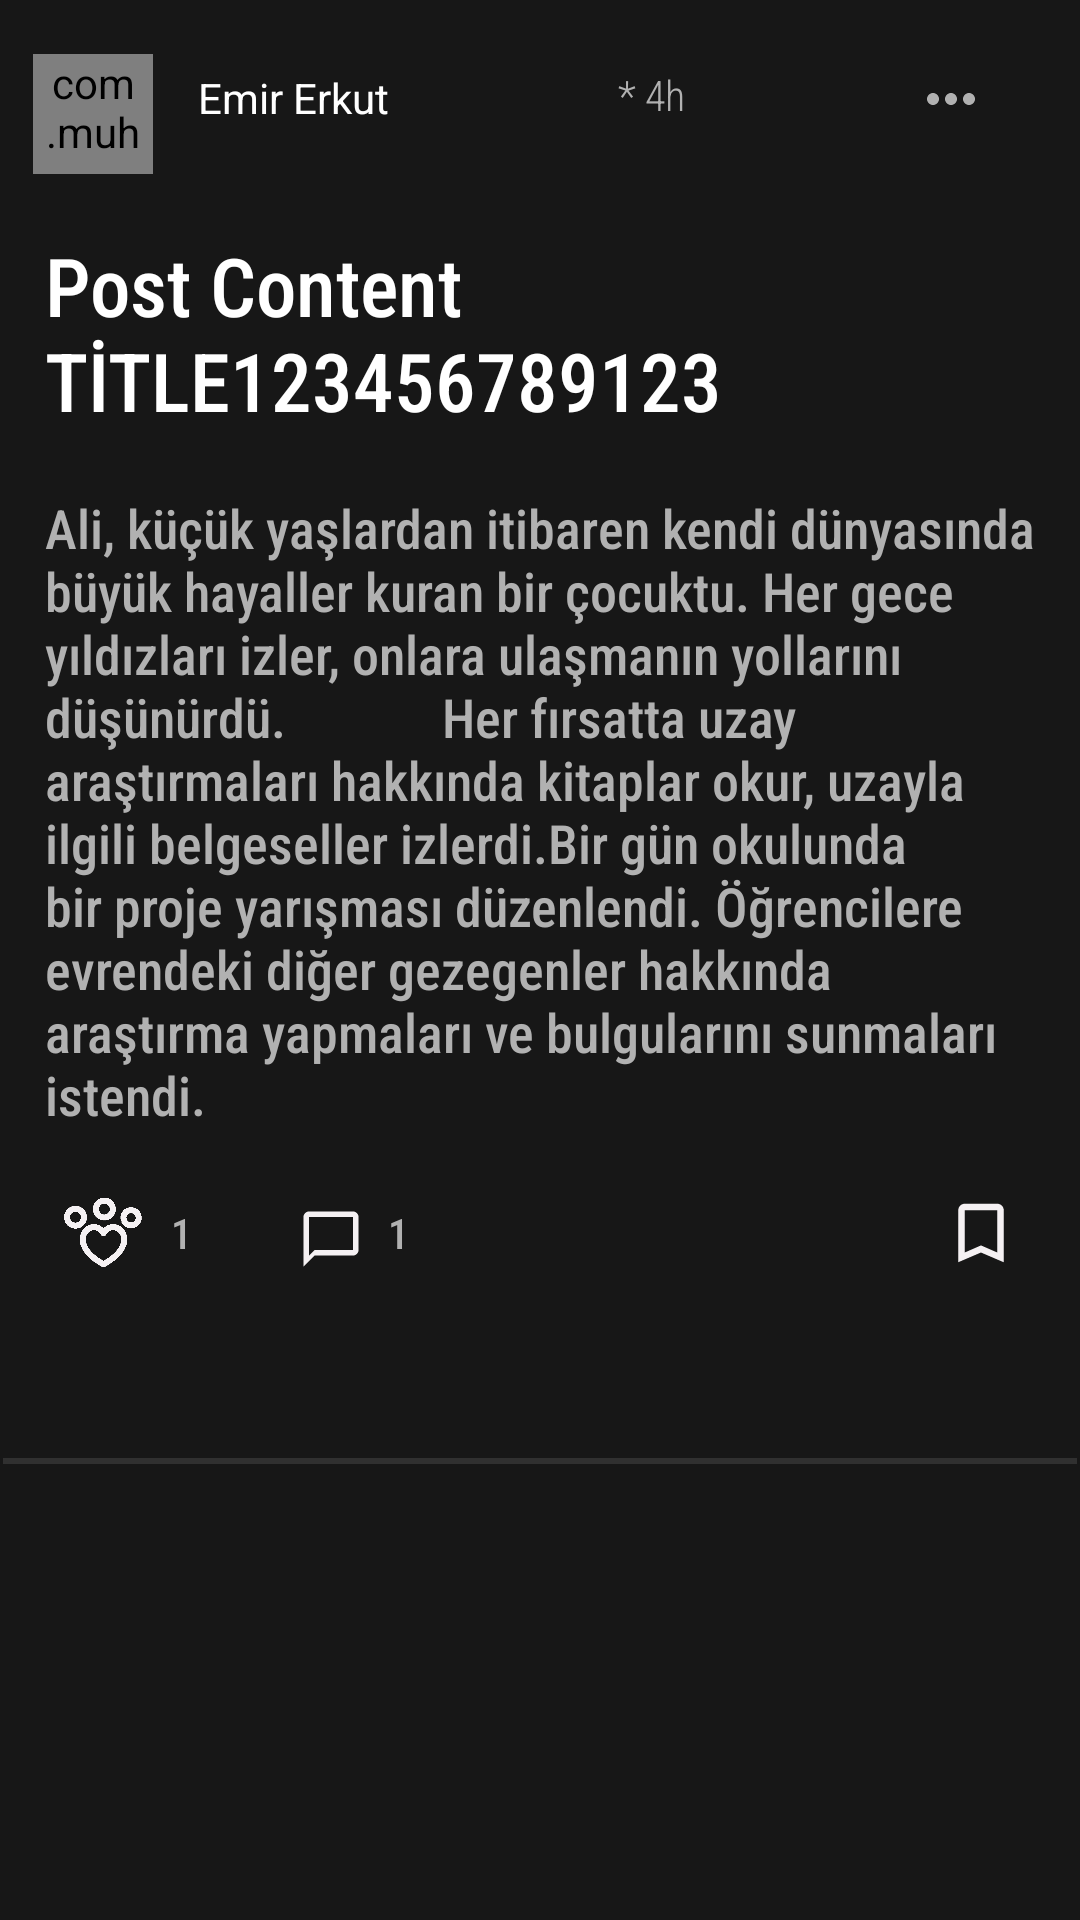

Named icons in this screenshot (1080×1920) and their centers, point (x, y):
commandpost: point (331, 1239)
likepost: point (103, 1232)
morepostcell: point (951, 99)
postsave: point (981, 1232)
